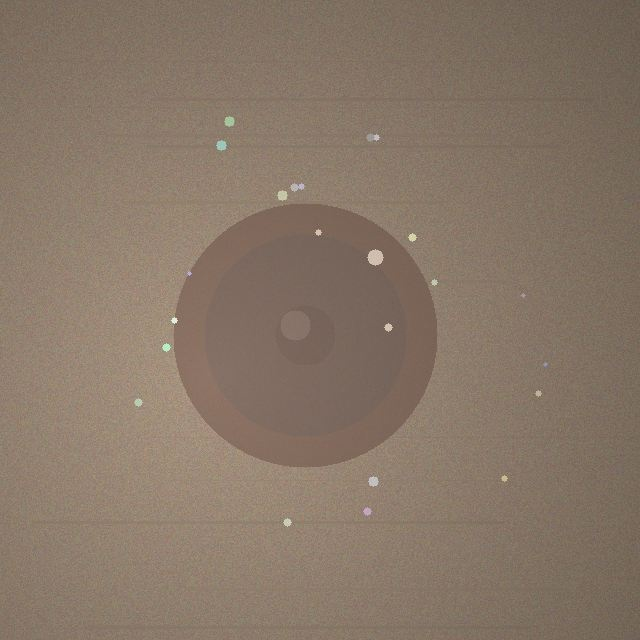overburn: (173, 203, 437, 467)
